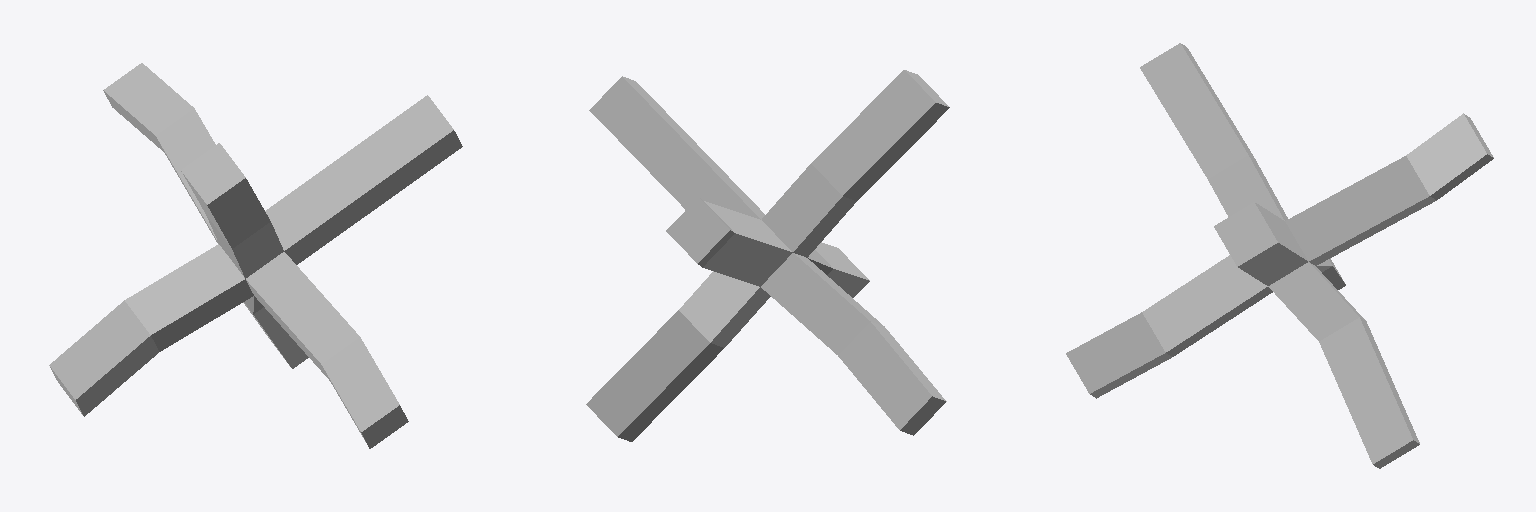
Rendered from Barrier_1.obj.
The picture shows the model from 3 angles: view 1: azimuth 30°, elevation 25°; view 2: azimuth 150°, elevation 25°; view 3: azimuth 270°, elevation 25°; orthographic projection.
Visible parts, largest first — view 1: Cube.001_Cube.000; view 2: Cube.001_Cube.000; view 3: Cube.001_Cube.000.
Boxes of the visible parts, x1=… form: Cube.001_Cube.000: x1=49, y1=63, x2=462, y2=448; Cube.001_Cube.000: x1=586, y1=70, x2=949, y2=441; Cube.001_Cube.000: x1=1066, y1=43, x2=1493, y2=468.
Size of the model in its own units: 0.4849 by 0.4268 by 0.4849.